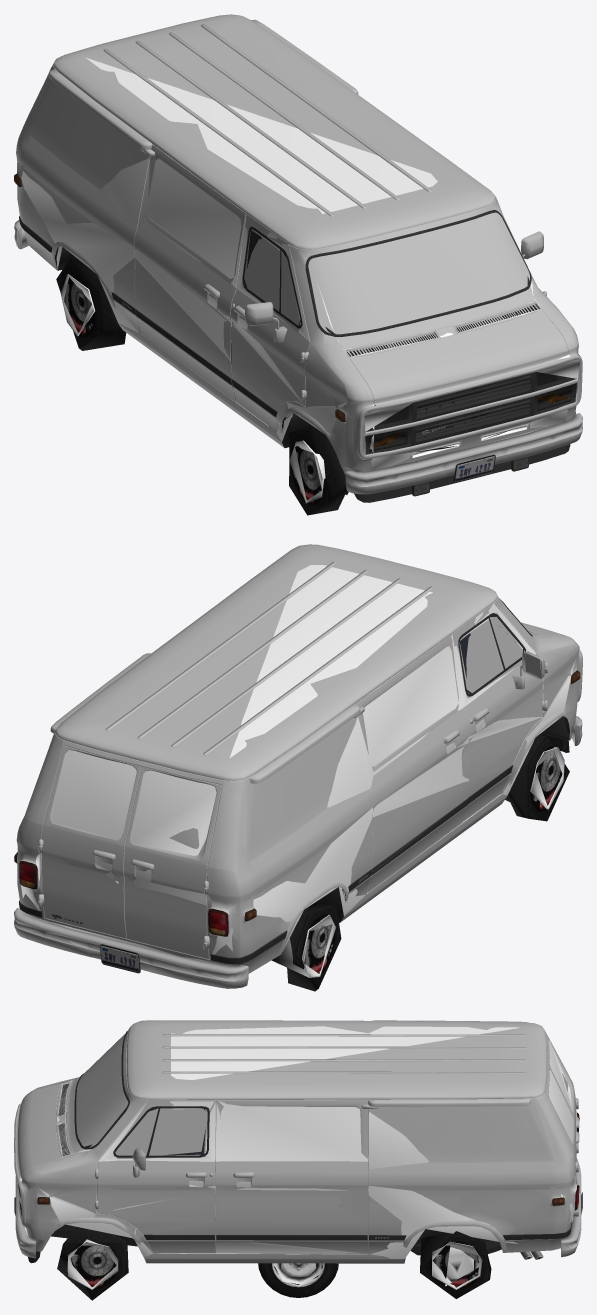
The model's file is van.glb.
3 renders of one model, top to bottom at view 1: azimuth 30°, elevation 25°; view 2: azimuth 150°, elevation 25°; view 3: azimuth 270°, elevation 25°, orthographic. The views are drawn at different scales.
Visible parts, largest first — view 1: paint0, far, paint1, kit0, glass0, kit1, glass1; view 2: paint0, far, paint1, kit0, kit1, glass0, glass1; view 3: paint0, paint1, far, kit0, glass1, glass0, wheel0, kit1, wheel1.
Boxes of the visible parts, x1,y1,x2,y2 form: paint0: (16,14,578,474); far: (18,58,580,515); paint1: (17,20,578,472); kit0: (14,173,582,502); glass0: (244,212,529,333); kit1: (17,214,581,501); glass1: (246,212,529,334); paint0: (16,544,580,973); far: (19,565,581,991); paint1: (17,545,580,973); kit0: (14,598,582,988); kit1: (16,615,582,981); glass0: (460,617,507,693); glass1: (459,616,522,692); paint0: (16,1020,578,1263); paint1: (17,1020,578,1263); far: (15,1026,578,1300); kit0: (14,1031,582,1263); glass1: (78,1039,207,1155); glass0: (76,1033,153,1147); wheel0: (258,1263,338,1297); kit1: (14,1083,582,1259); wheel1: (272,1263,325,1287).
Size of the model in its own units: 2.35 by 2.28 by 4.9.
1 material, 1 textured.
